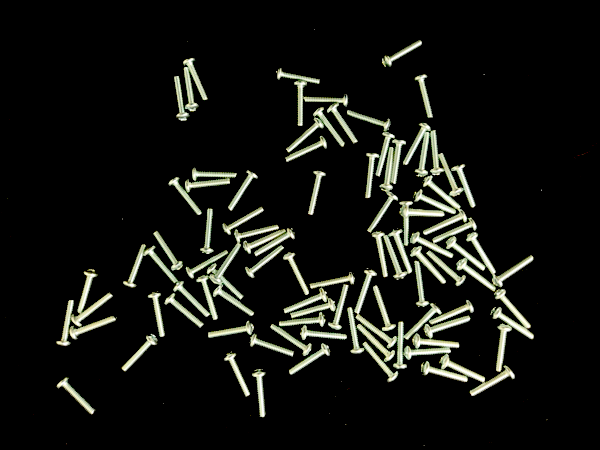longscrew: (55, 375, 99, 417), (492, 289, 534, 331), (356, 322, 397, 364), (120, 331, 160, 374), (362, 340, 401, 384), (468, 365, 517, 400), (71, 290, 116, 328), (490, 306, 537, 342), (426, 249, 468, 289), (355, 313, 400, 350), (268, 322, 314, 358), (206, 263, 247, 303), (410, 246, 450, 287), (287, 342, 332, 378), (173, 280, 213, 320), (143, 245, 182, 286), (167, 175, 205, 217), (165, 293, 207, 331), (421, 175, 464, 212), (379, 37, 427, 70), (209, 242, 244, 287), (491, 253, 536, 288), (212, 284, 258, 318), (446, 237, 489, 273), (456, 258, 499, 294), (466, 232, 500, 277), (405, 302, 443, 342), (367, 190, 400, 236), (221, 204, 267, 237), (244, 244, 286, 280), (68, 313, 120, 342), (439, 354, 489, 384), (327, 102, 361, 146), (227, 168, 260, 213), (253, 225, 298, 258), (285, 117, 325, 154), (185, 248, 231, 280), (223, 350, 253, 399), (152, 229, 185, 273), (283, 287, 331, 317), (314, 107, 348, 149), (421, 207, 468, 237), (285, 134, 330, 165), (428, 298, 476, 327), (431, 216, 479, 245), (122, 241, 150, 290), (451, 162, 480, 209), (183, 56, 212, 103), (242, 227, 289, 256), (409, 231, 456, 260), (388, 228, 416, 276), (284, 252, 313, 298), (247, 333, 298, 359), (403, 121, 431, 168), (412, 188, 459, 216), (346, 107, 394, 134), (383, 234, 410, 282), (196, 274, 222, 323), (439, 152, 466, 199), (76, 266, 101, 316), (353, 266, 378, 316), (424, 314, 473, 339), (419, 360, 470, 384), (373, 285, 398, 333), (413, 73, 437, 122), (328, 283, 352, 332), (206, 318, 256, 341), (291, 296, 338, 320), (307, 167, 329, 218), (233, 223, 281, 246), (146, 289, 168, 339), (375, 130, 397, 179), (56, 298, 77, 349), (274, 65, 324, 86), (346, 306, 366, 357), (309, 270, 357, 291), (250, 367, 269, 420), (298, 324, 351, 343), (371, 230, 391, 280), (171, 75, 192, 122), (414, 131, 434, 179), (412, 261, 432, 309), (495, 321, 513, 373), (182, 66, 201, 114), (390, 136, 408, 186), (278, 311, 328, 329), (428, 130, 447, 177), (184, 177, 234, 194), (200, 206, 217, 256), (393, 321, 410, 371), (364, 151, 381, 200), (302, 91, 351, 108), (190, 165, 239, 182), (399, 198, 415, 248), (293, 78, 309, 128), (404, 346, 454, 362), (413, 334, 463, 350), (379, 146, 396, 193), (399, 204, 447, 220)
